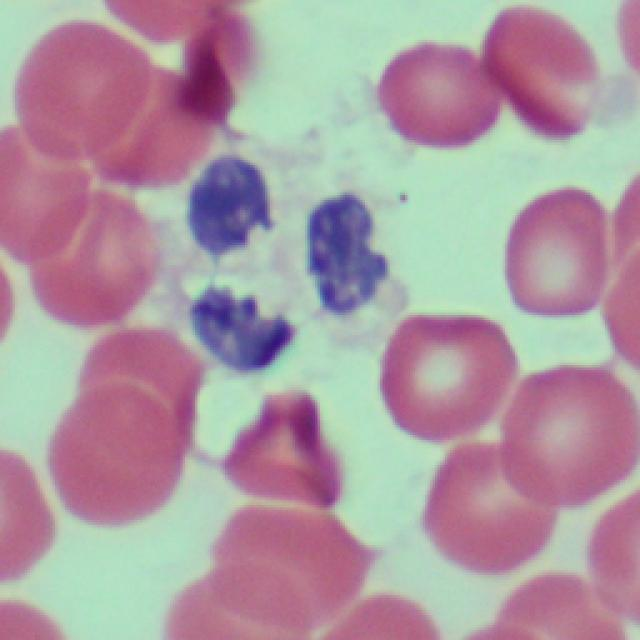RBC: (173, 130, 392, 383), (46, 315, 193, 527), (14, 18, 164, 202), (201, 499, 368, 640), (17, 176, 160, 336), (368, 304, 514, 450), (502, 354, 638, 509), (416, 438, 561, 575), (369, 26, 506, 158), (482, 3, 606, 147), (500, 171, 612, 324), (221, 375, 336, 517), (92, 1, 232, 62), (0, 440, 60, 576), (585, 482, 640, 628)
